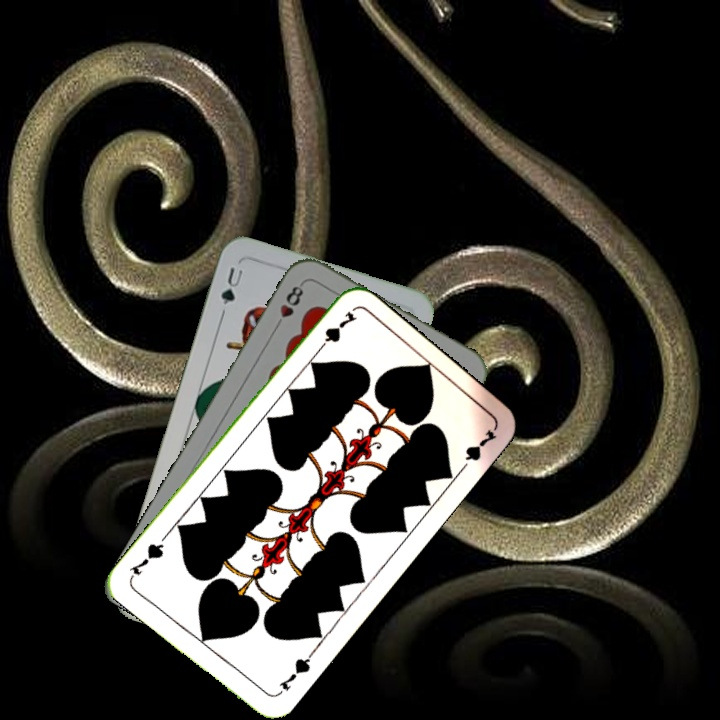G7: (312, 307, 359, 356), (272, 649, 316, 699)
GU: (216, 263, 246, 307)
H8: (270, 278, 307, 332)
